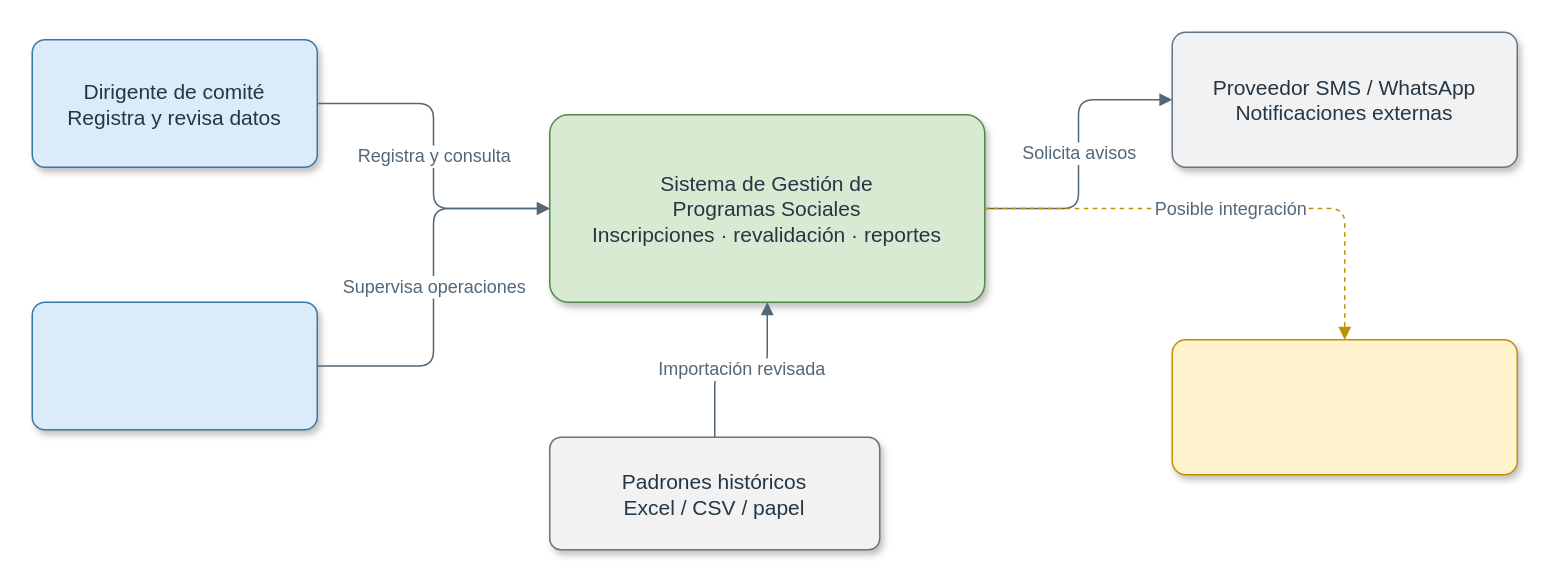
This 1553x587 diagram has some shape labels left out. Each missing label, with the centre of its shape:
Personal municipal Supervisa y autoriza: point 175,367
RENIEC / SISFOH Integración futura: point 1345,408
